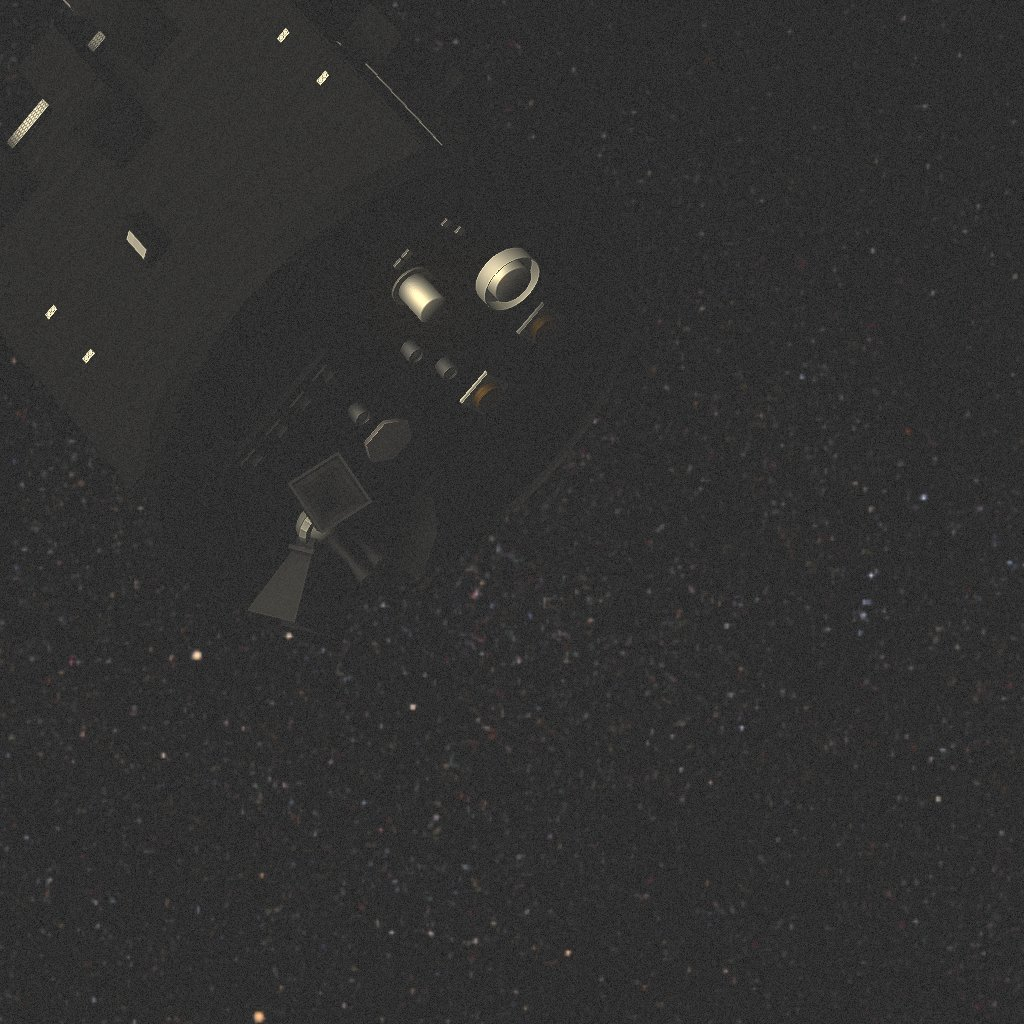proba_3_ocs: (0, 0, 644, 636)
